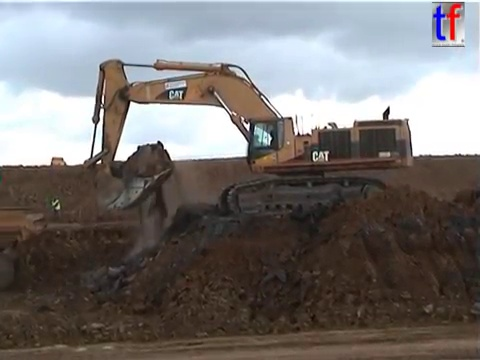excavator: (80, 55, 416, 222)
truck: (1, 203, 47, 290), (49, 155, 67, 172)
worker: (47, 192, 65, 223)
